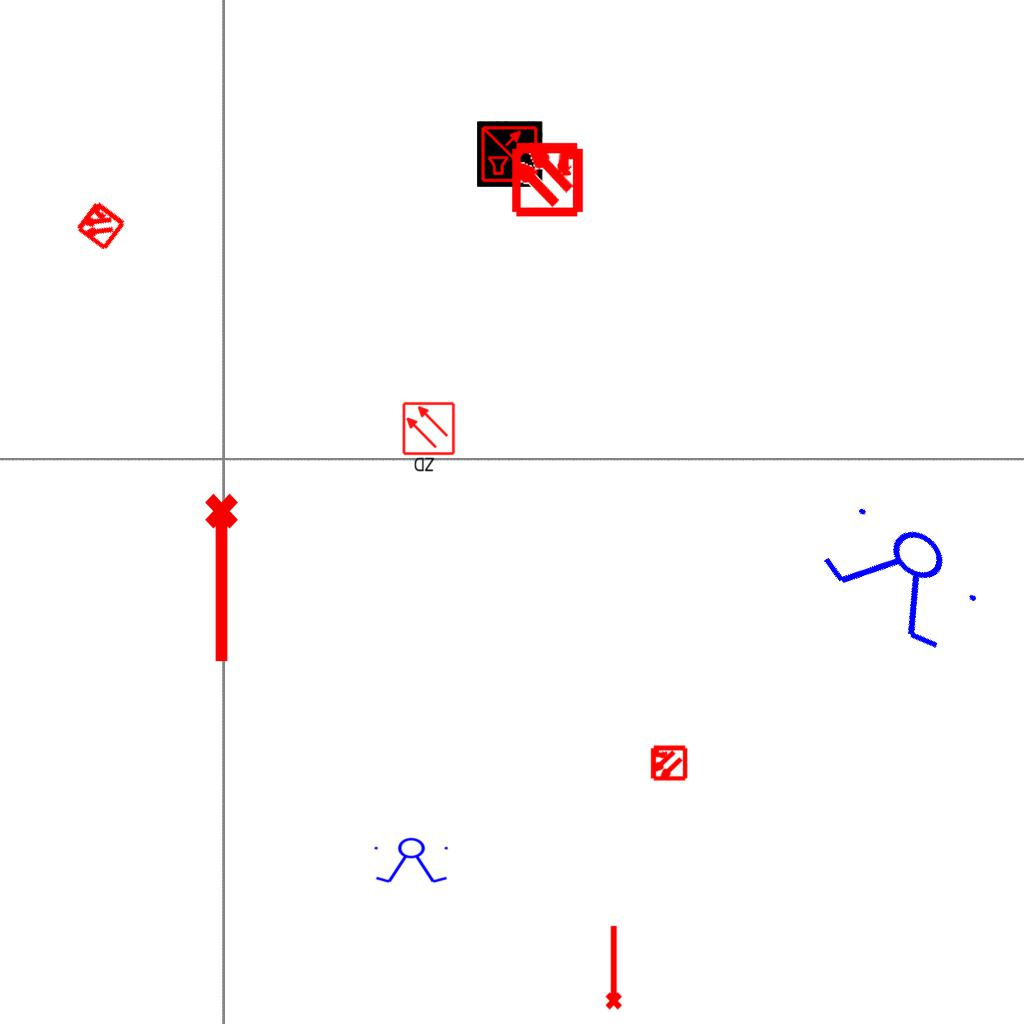ASR_Ansaugoeffnung: (201, 491, 247, 667), (601, 923, 624, 1011)
OKW_Multisensormelder_(Kombination_optischer_Rauch-Kahlenmonoxid_Waerme-Melder): (477, 121, 543, 187)
OT_Multisensormelder_(Kombination_RMO_WMD): (491, 121, 604, 234), (60, 185, 140, 265), (640, 735, 696, 791)
Serienschalter: (807, 486, 999, 666), (370, 837, 454, 885)
ZD_Melder_in_Zwischendecke_mit_Revisionsoeffnung_mind_40_x_40_cm: (401, 401, 458, 475)
